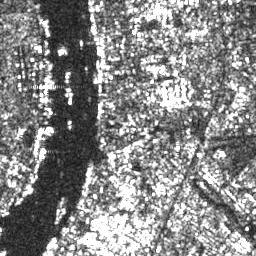ship: (32, 139, 40, 159), (42, 19, 50, 37), (39, 146, 47, 161), (37, 125, 44, 141), (22, 188, 34, 197), (32, 163, 41, 173), (68, 92, 74, 107), (95, 46, 103, 57), (14, 197, 23, 206), (43, 48, 51, 56), (79, 39, 84, 47)
